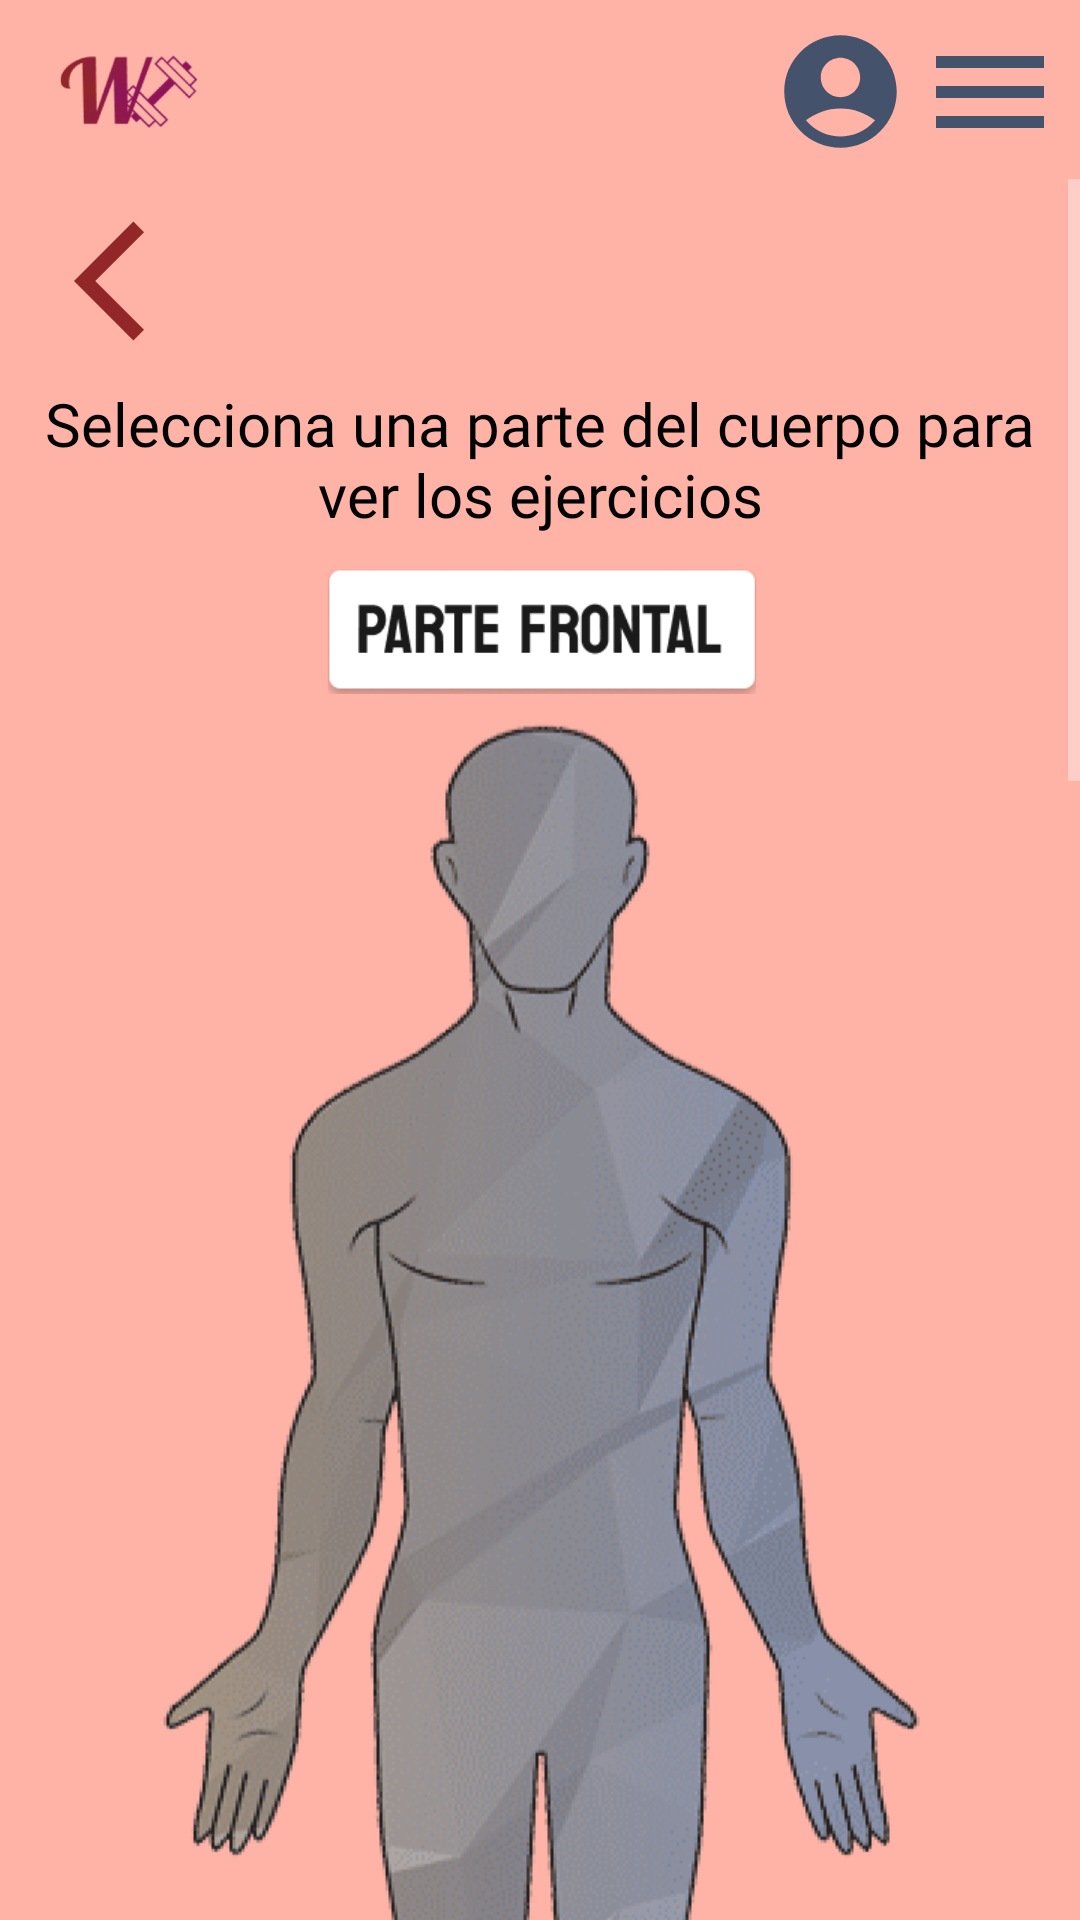

Screen size 1080×1920. Icon name, then its box in pixels as detection(x1, y1, x2, y2):
Go Back: detection(74, 221, 144, 341)
Menu: detection(936, 56, 1044, 128)
User Profile: detection(784, 35, 897, 148)
